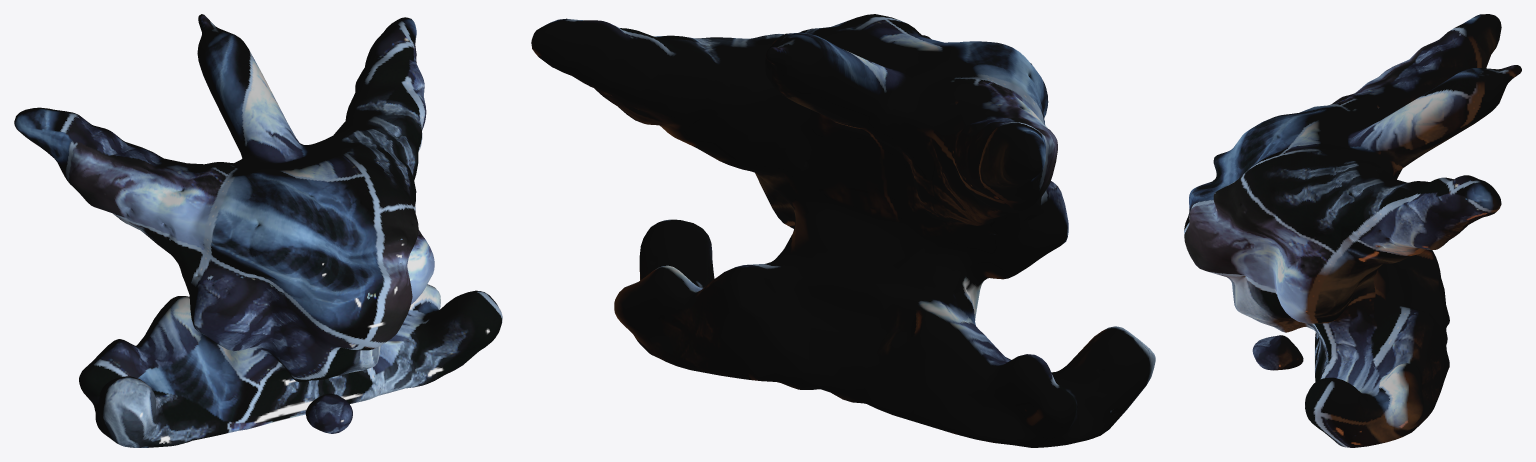
The picture shows the model from 3 angles, left to right: view 1: azimuth 30°, elevation 25°; view 2: azimuth 150°, elevation 25°; view 3: azimuth 270°, elevation 25°; orthographic projection. The views are drawn at different scales.
Visible parts, largest first — view 1: Skin_Recovered_Tool; view 2: Skin_Recovered_Tool; view 3: Skin_Recovered_Tool.
Boxes of the visible parts, x1,y1,x2,y2 form: Skin_Recovered_Tool: [14, 14, 502, 447]; Skin_Recovered_Tool: [531, 14, 1155, 447]; Skin_Recovered_Tool: [1184, 14, 1521, 447].
Size of the model in its own units: 2.49 by 1.97 by 1.94.
1 material, 1 textured.
